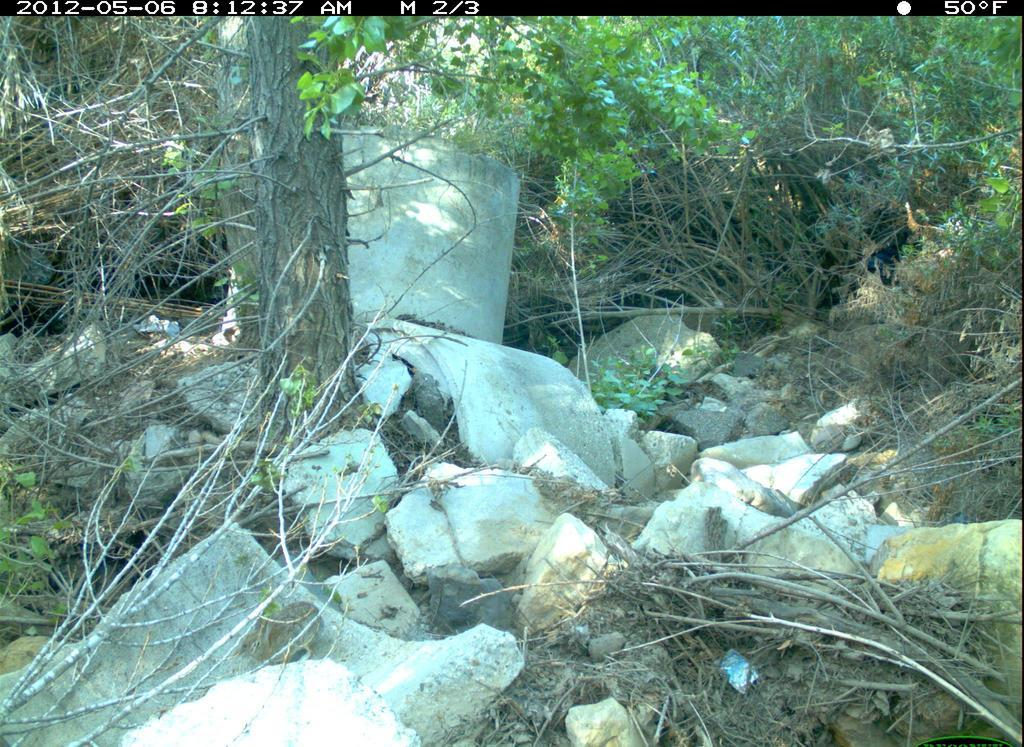rabbit: (217, 592, 337, 676)
